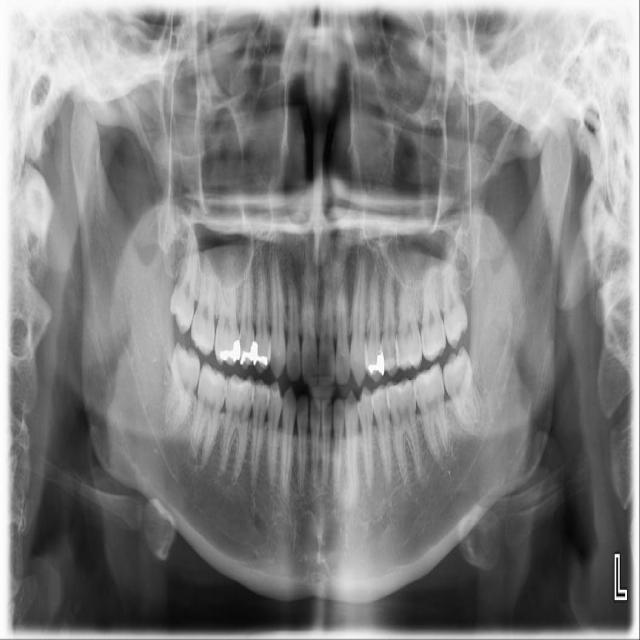3M ESPE Implant: (167, 234, 202, 336)
52: (222, 372, 257, 422), (214, 318, 240, 367), (363, 334, 385, 383), (252, 327, 272, 375), (237, 323, 256, 370)
73: (609, 569, 617, 585)
BioHorizons Implant: (417, 266, 448, 363)
BioLife Implant: (438, 251, 471, 350)
Biomet 3i Implant: (436, 345, 485, 433)
Blue Sky Bio Implant: (412, 361, 450, 465)
Caries: (191, 253, 215, 356)
Implant: (188, 362, 230, 467)
Keystone Dental Implant: (161, 341, 204, 436)
